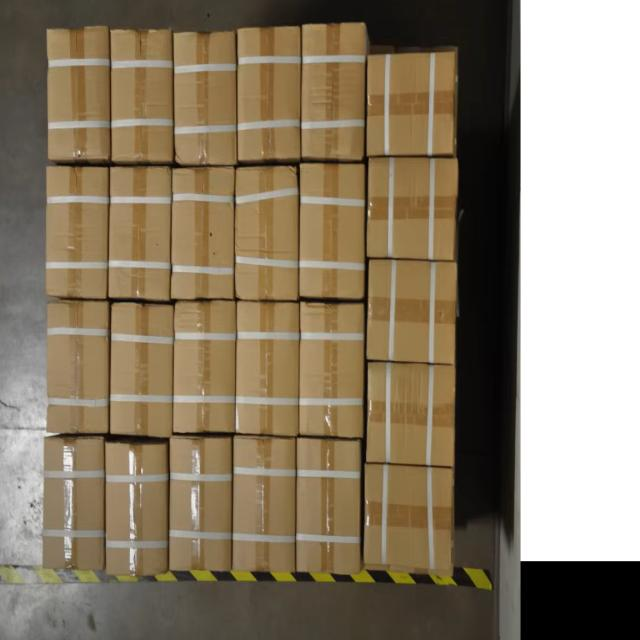cardboxes: (366, 361, 460, 469), (363, 464, 456, 572), (366, 257, 457, 364), (296, 434, 363, 574), (301, 21, 367, 162), (233, 435, 298, 578), (301, 158, 366, 300), (236, 160, 300, 303), (367, 53, 458, 153), (172, 298, 236, 437), (109, 299, 172, 440), (44, 435, 108, 573), (236, 28, 302, 161), (172, 163, 236, 300), (300, 302, 364, 439), (109, 161, 170, 304), (46, 28, 110, 164), (45, 299, 109, 435), (169, 435, 232, 573), (370, 158, 456, 259), (237, 300, 299, 440), (175, 31, 239, 166), (111, 28, 174, 164), (107, 440, 168, 577), (45, 160, 107, 294)
